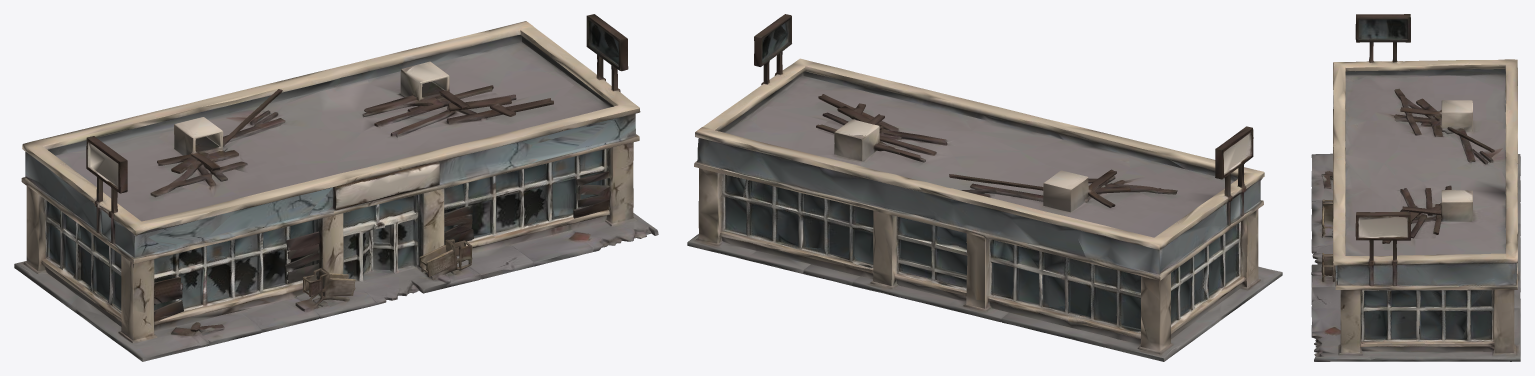
The model's file is supermarket_idle.glb.
The picture shows the model from 3 angles, left to right: view 1: azimuth 30°, elevation 25°; view 2: azimuth 150°, elevation 25°; view 3: azimuth 270°, elevation 25°; orthographic projection. The views are drawn at different scales.
Visible parts, largest first — view 1: tripo_node_a4b70078-0cf2-45ac-9ec1-97c86e5abf90; view 2: tripo_node_a4b70078-0cf2-45ac-9ec1-97c86e5abf90; view 3: tripo_node_a4b70078-0cf2-45ac-9ec1-97c86e5abf90.
Part boxes in pixels (x1,y1,x2,y2): tripo_node_a4b70078-0cf2-45ac-9ec1-97c86e5abf90: [14, 14, 658, 361]; tripo_node_a4b70078-0cf2-45ac-9ec1-97c86e5abf90: [687, 14, 1282, 361]; tripo_node_a4b70078-0cf2-45ac-9ec1-97c86e5abf90: [1311, 14, 1520, 361].
Size of the model in its own units: 20 by 6.62 by 8.64.
1 material, 1 textured.
